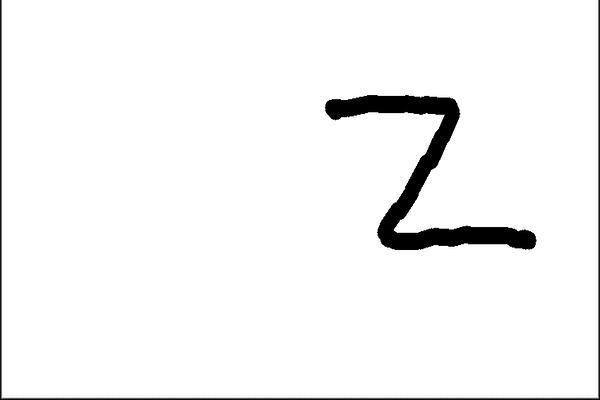Z: (315, 84, 541, 265)
